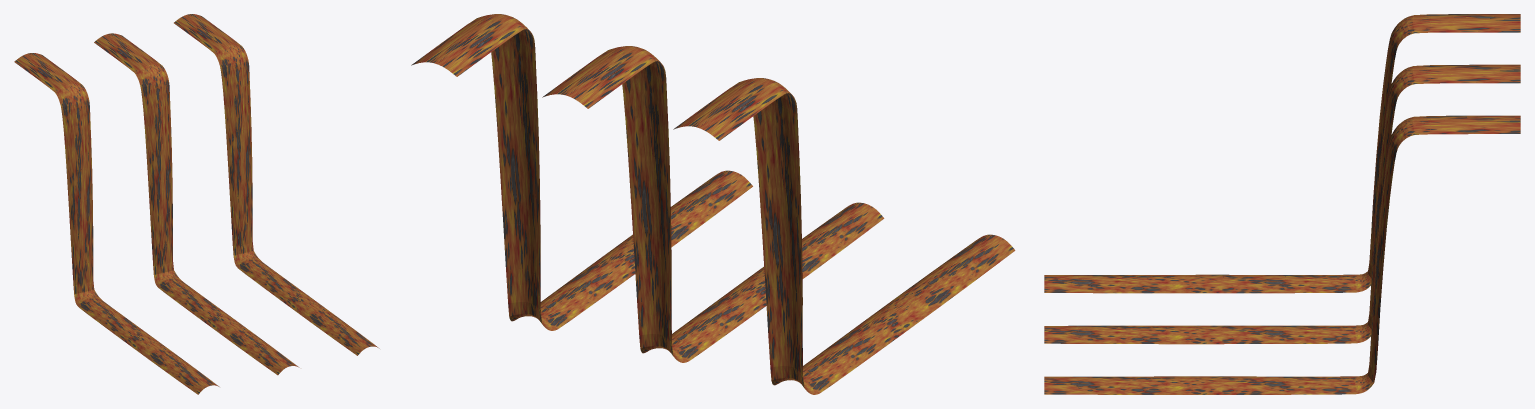
Rendered from WaterFallSmall1.fbx.
3 views of the same model, side by side, from view 1: azimuth 30°, elevation 25°; view 2: azimuth 150°, elevation 25°; view 3: azimuth 270°, elevation 25° (orthographic). The views are drawn at different scales.
Visible parts, largest first — view 1: WaterFallSmall1, WaterFallSmall003, WaterFallSmall002; view 2: WaterFallSmall1, WaterFallSmall002, WaterFallSmall003; view 3: WaterFallSmall003, WaterFallSmall002, WaterFallSmall1.
Boxes of the visible parts, left/top/right/bottom form: WaterFallSmall1: left=14, top=53, right=219, bottom=394; WaterFallSmall003: left=174, top=14, right=379, bottom=355; WaterFallSmall002: left=94, top=33, right=299, bottom=375; WaterFallSmall1: left=673, top=78, right=1015, bottom=394; WaterFallSmall002: left=542, top=46, right=884, bottom=362; WaterFallSmall003: left=411, top=14, right=752, bottom=330; WaterFallSmall003: left=1044, top=115, right=1520, bottom=394; WaterFallSmall002: left=1044, top=64, right=1520, bottom=344; WaterFallSmall1: left=1044, top=14, right=1520, bottom=293.
Size of the model in its own units: 24.56 by 25.67 by 41.28.
